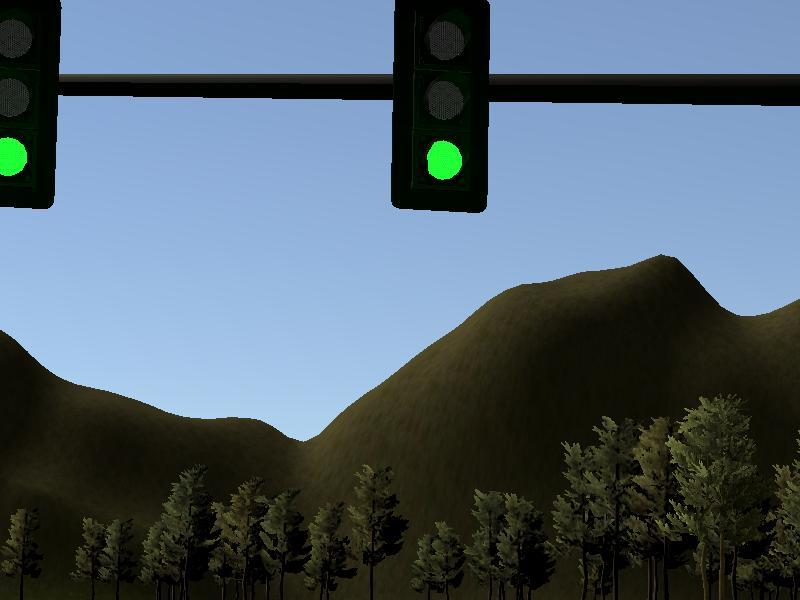Green: (396, 1, 487, 210), (1, 1, 53, 207)
